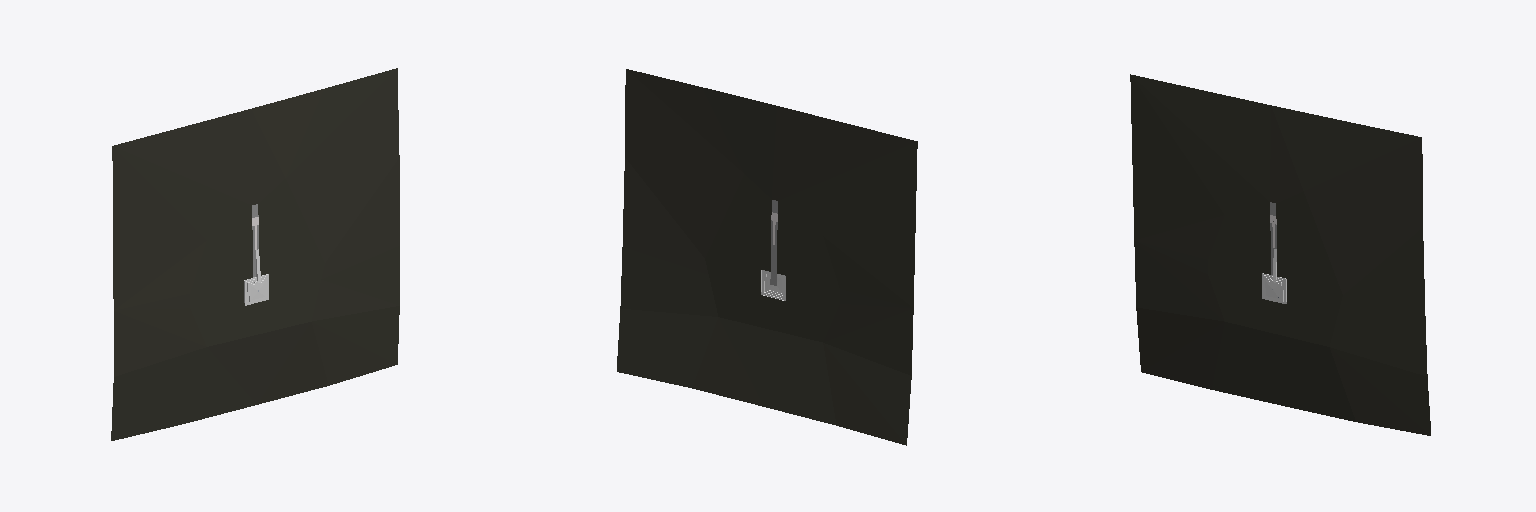
Rendered from Sterngarten_Wien_innerArea_ground.obj.
3 renders of one model, left to right at view 1: azimuth 30°, elevation 25°; view 2: azimuth 150°, elevation 25°; view 3: azimuth 330°, elevation 25°, orthographic.
Visible parts, largest first — view 1: Mesh6 Google_Earth_Terrain_for_2012_update Model, Mesh2 Stufenpyramide Buildings Model; view 2: Mesh6 Google_Earth_Terrain_for_2012_update Model, Mesh2 Stufenpyramide Buildings Model, Mesh4 Nordweg Buildings Model; view 3: Mesh6 Google_Earth_Terrain_for_2012_update Model, Mesh2 Stufenpyramide Buildings Model.
Part boxes in pixels (left/top/right/bottom): Mesh6 Google_Earth_Terrain_for_2012_update Model: left=111, top=68, right=399, bottom=440; Mesh2 Stufenpyramide Buildings Model: left=244, top=274, right=268, bottom=305; Mesh6 Google_Earth_Terrain_for_2012_update Model: left=617, top=69, right=917, bottom=445; Mesh2 Stufenpyramide Buildings Model: left=761, top=270, right=785, bottom=300; Mesh4 Nordweg Buildings Model: left=770, top=200, right=777, bottom=285; Mesh6 Google_Earth_Terrain_for_2012_update Model: left=1130, top=74, right=1430, bottom=435; Mesh2 Stufenpyramide Buildings Model: left=1262, top=273, right=1286, bottom=303.
Bounding box in the file's own units: 142 × 141 × 8.08.